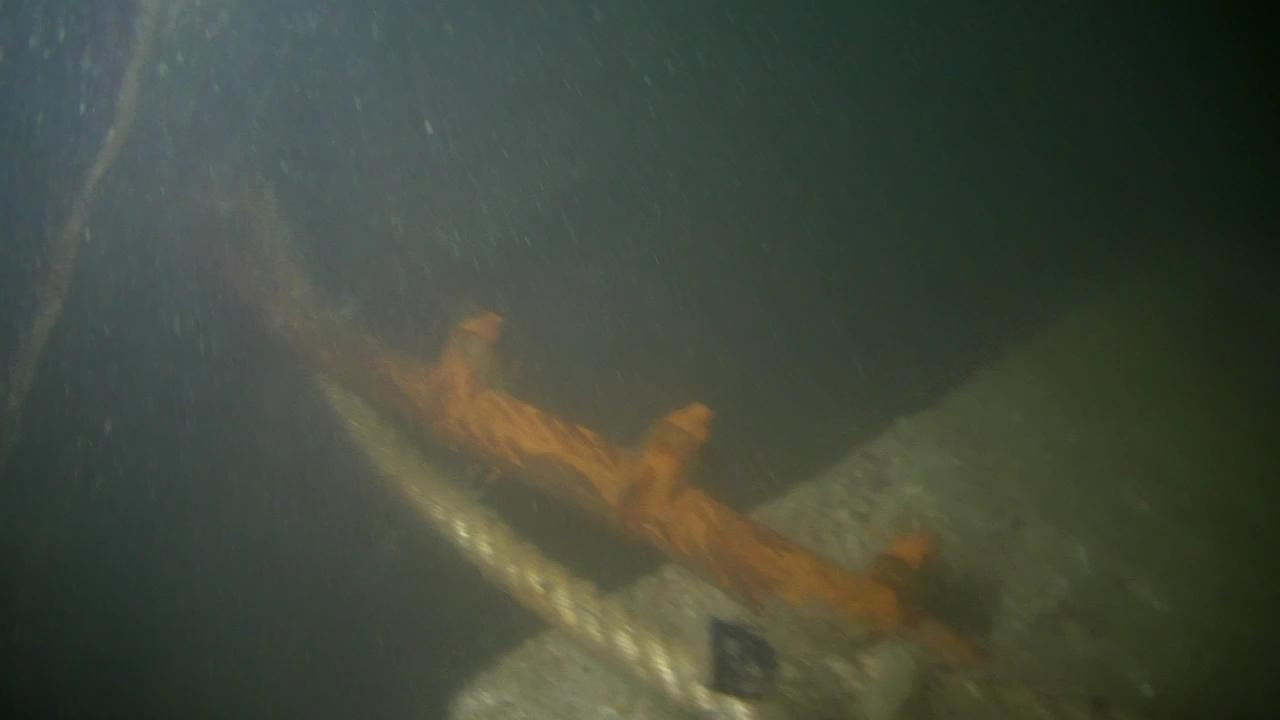rope: (315, 372, 760, 720)
